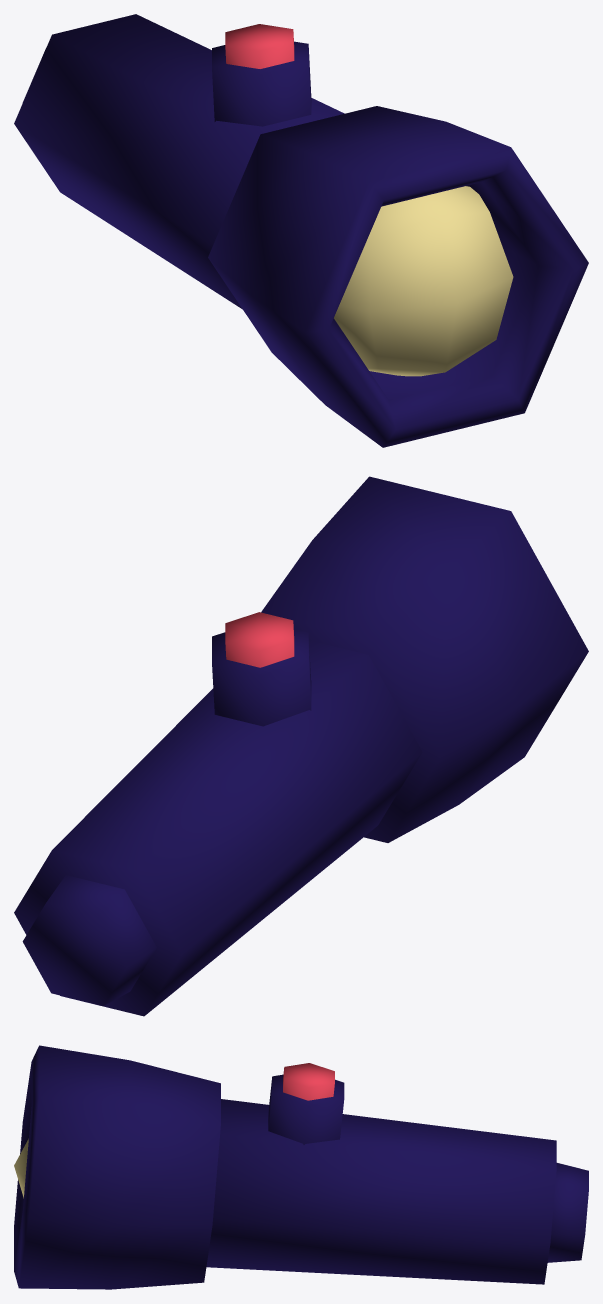
The model's file is props_flashlight.fbx.
3 views of the same model, one above another, from view 1: azimuth 30°, elevation 25°; view 2: azimuth 150°, elevation 25°; view 3: azimuth 270°, elevation 25° (orthographic). The views are drawn at different scales.
Parts seen in each view (by area): view 1: props_flashlight; view 2: props_flashlight; view 3: props_flashlight.
Part boxes in pixels (<box>): props_flashlight: <box>14,14,588,447</box>; props_flashlight: <box>14,476,588,1016</box>; props_flashlight: <box>14,1045,588,1289</box>.
Bounding box in the file's own units: 30.71 × 27.39 × 72.11.
